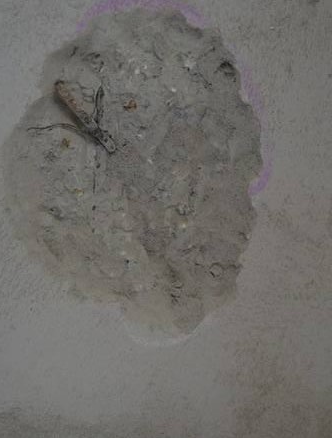Exposed reinforcement: (55, 81, 116, 153)
Spalling: (1, 1, 264, 342)
